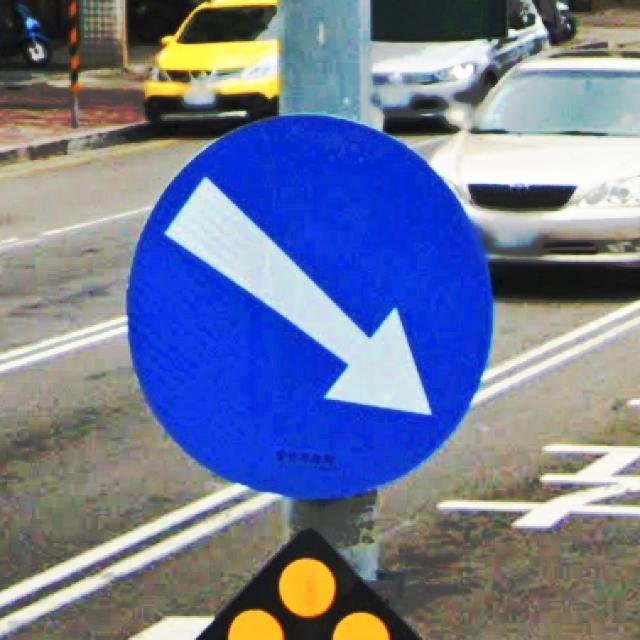thisway: (121, 109, 496, 500)
